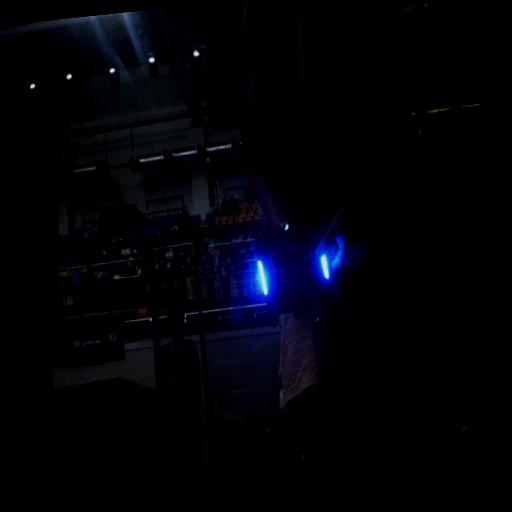target: (249, 224, 338, 316)
